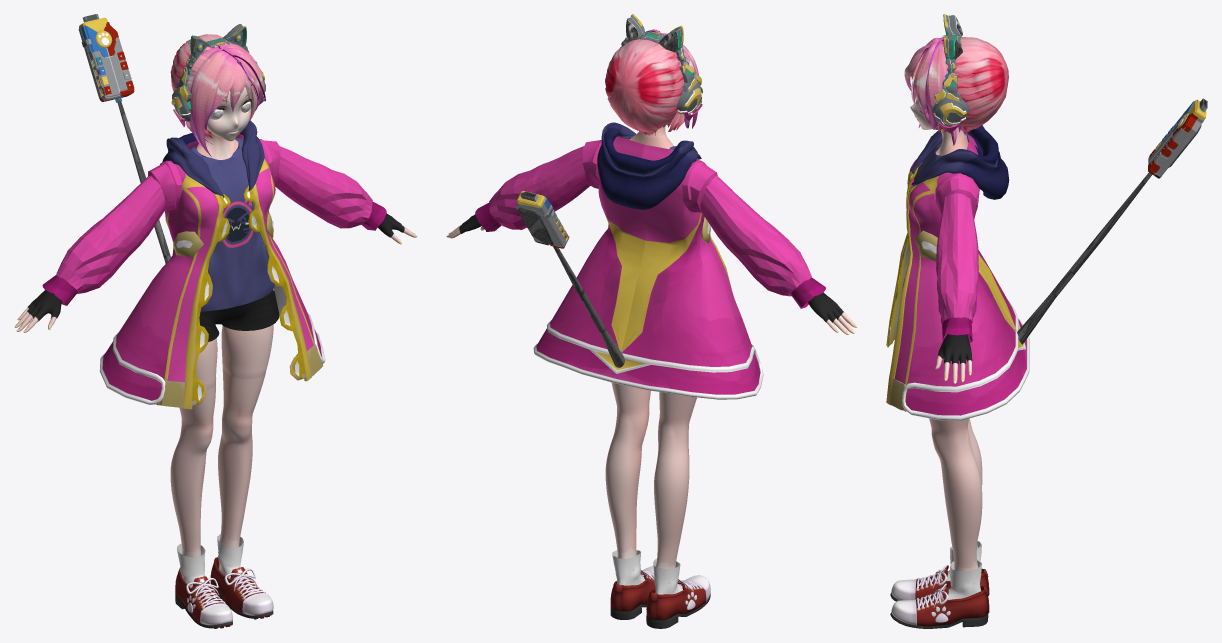
The model's file is early_fbx.fbx.
3 views of the same model, side by side, from view 1: azimuth 30°, elevation 25°; view 2: azimuth 150°, elevation 25°; view 3: azimuth 270°, elevation 25° (orthographic).
Visible parts, largest first — view 1: cloth, arm (×2), polySurface325, inner, polySurface326, tail2, forehead, shoes_L, shoes_R, pants, face, headgear1 (+5 smaller); view 2: cloth, arm (×2), back_of_head, polySurface326, polySurface325, tail2, headgear1, shoes_R, shoulder (×2), shoes_L, socks_L, socks_R (+1 smaller); view 3: cloth, arm, polySurface325, back_of_head, tail2, shoes_L, headgear1, forehead, shoes_R, shoulder, socks_L, gloves_L (+2 smaller).
Part boxes in pixels (x1,y1,x2,y2): cloth: (99,120,325,409); arm (×2): (42,146,386,305); polySurface325: (218,324,273,553); inner: (190,137,274,311); polySurface326: (170,338,217,557); tail2: (78,14,170,263); forehead: (186,44,265,156); shoes_L: (210,557,273,619); shoes_R: (175,567,232,628); pants: (199,288,279,341); face: (196,87,251,159); headgear1: (171,24,265,126); cloth: (533,122,763,399); arm (×2): (475,146,825,308); back_of_head: (605,39,690,135); polySurface326: (654,392,696,583); polySurface325: (605,382,650,570); tail2: (516,191,624,367); headgear1: (619,14,702,120); shoes_R: (646,575,710,628); shoulder (×2): (582,140,717,212); shoes_L: (610,566,655,619); socks_L: (612,550,645,585); socks_R: (653,558,682,594); cloth: (886,125,1029,420); arm: (936,193,978,342); polySurface325: (929,418,982,584); back_of_head: (904,37,1008,135); tail2: (1017,98,1207,344); shoes_L: (890,583,989,628); headgear1: (932,14,969,133); forehead: (909,36,956,145); shoes_R: (890,565,989,601); shoulder: (934,173,979,215); socks_L: (948,560,981,599); gloves_L: (938,334,972,364).
Bounding box in the file's own units: 12.92 × 17.86 × 8.87.
